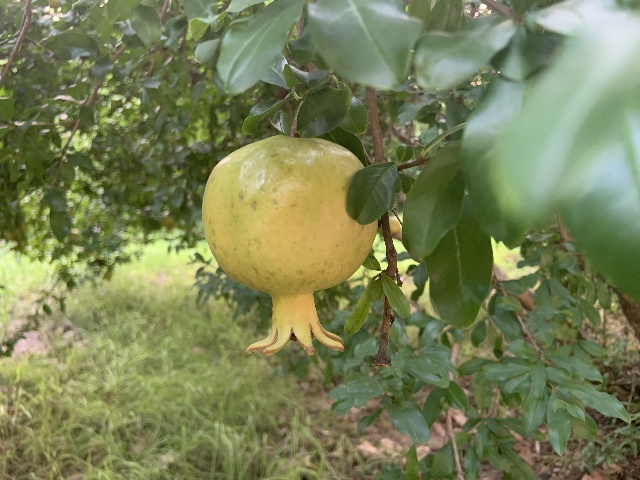mid-growth: (200, 134, 379, 357), (69, 140, 86, 155)
